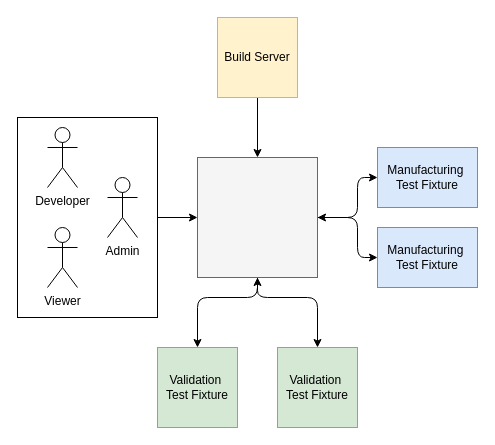
This 495x445 diagram has some shape labels left out. Each missing label, with the box of its shape:
Back end: (196, 156, 318, 278)
Users: (16, 116, 158, 318)
